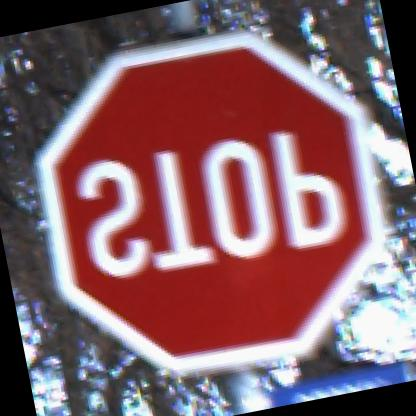stop: (1, 3, 414, 404)
